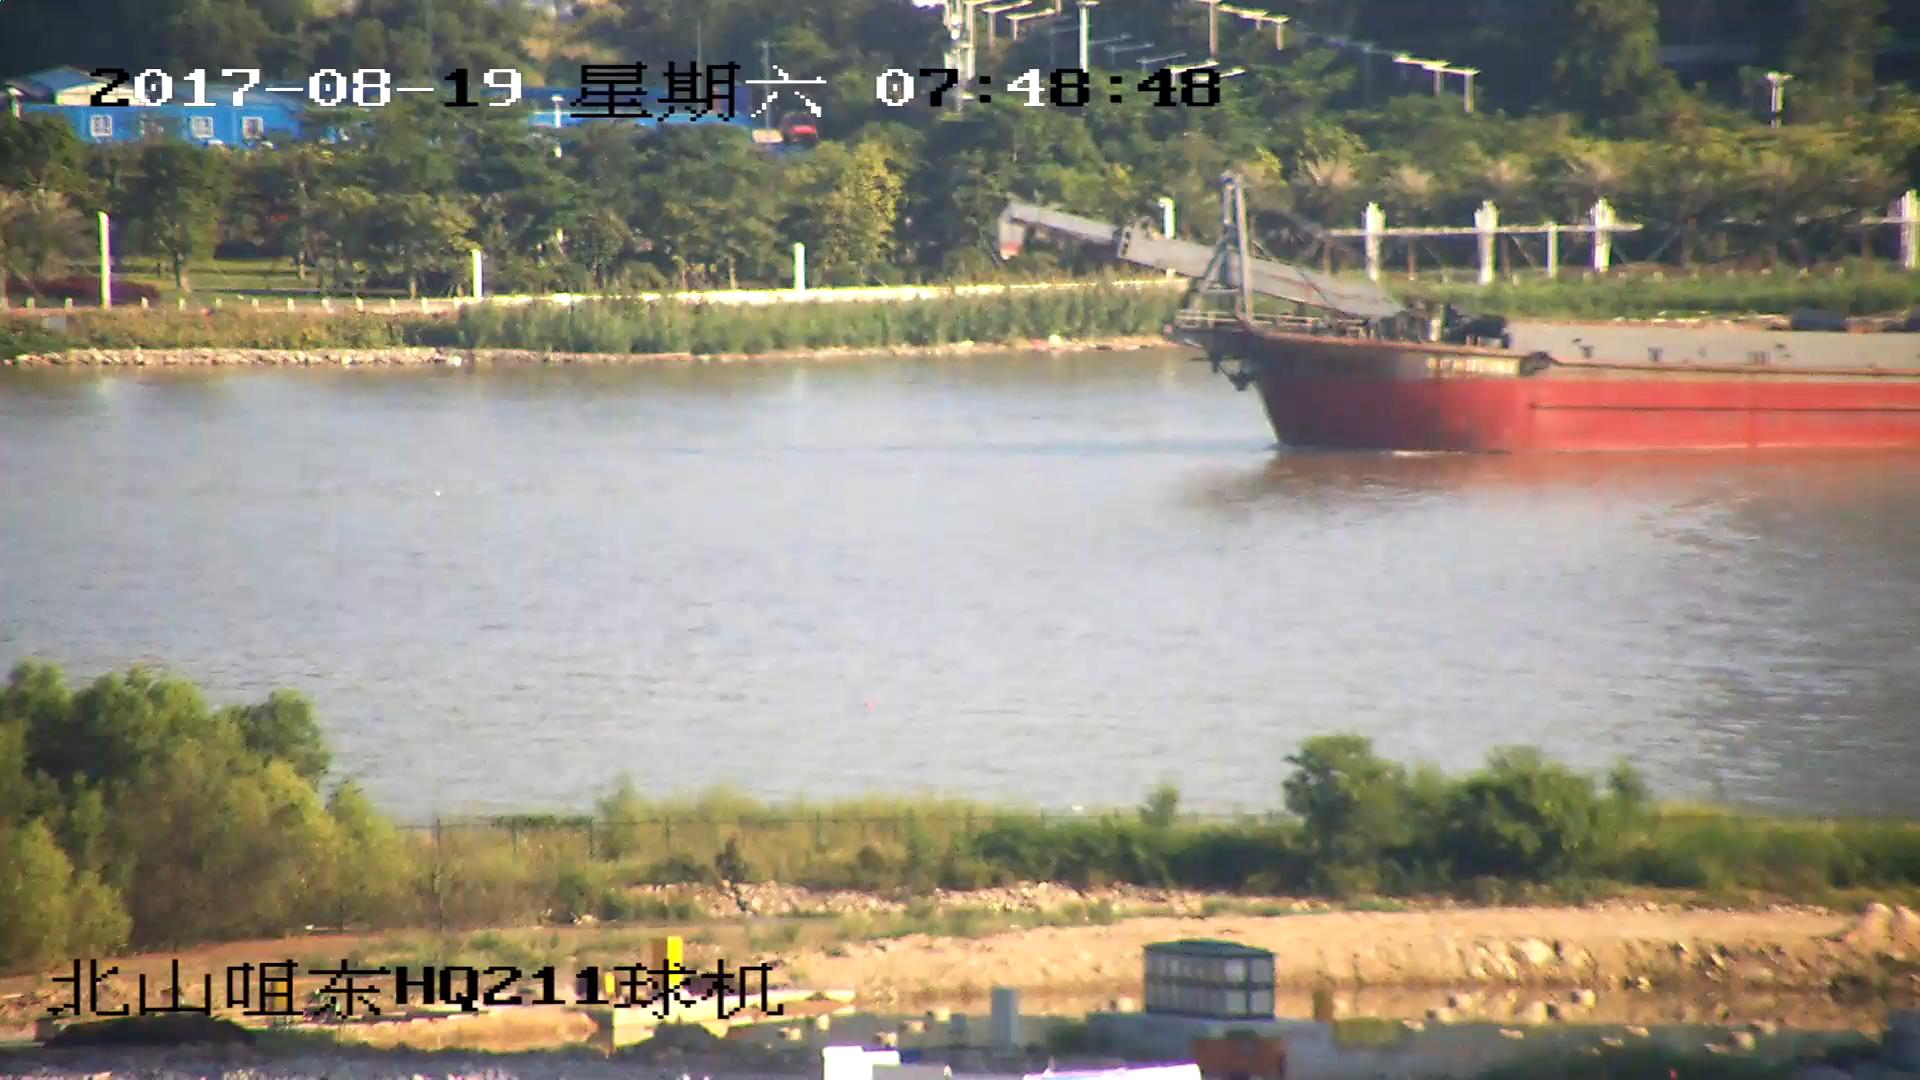bulk cargo carrier: (1006, 178, 1920, 454)
